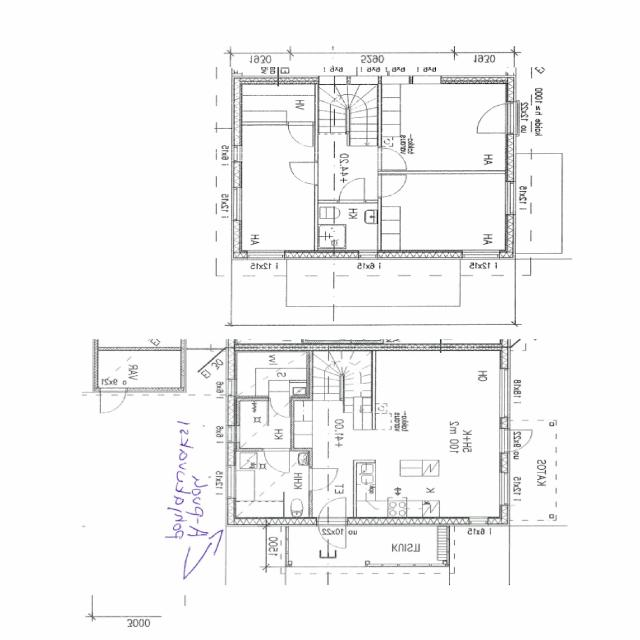door: (471, 102, 515, 133), (318, 492, 347, 526), (318, 518, 347, 550), (500, 430, 535, 452), (100, 388, 127, 416), (377, 175, 408, 197), (309, 468, 338, 491), (377, 147, 407, 169), (264, 448, 290, 473), (290, 162, 318, 185), (340, 179, 365, 203), (289, 122, 313, 146), (270, 395, 290, 417)
